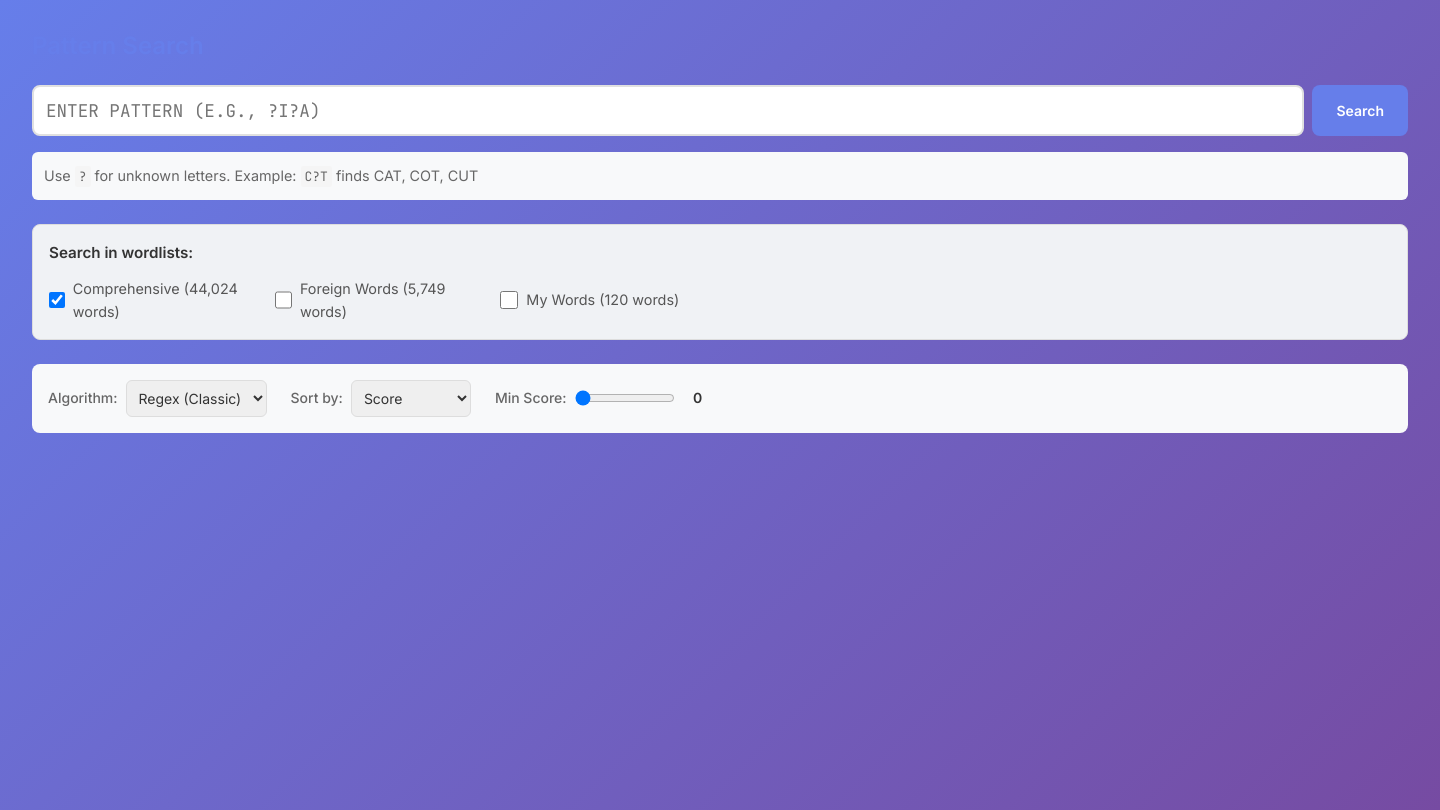
PatternMatcher SSE completion (real hook) › results scroll into view › does not scroll when the search returns no results
Type "C?T" into the field with placeholder "Enter pattern (e.g., ?I?A)".
click(668, 110); type("C?T")  # box [32,85,1304,136]
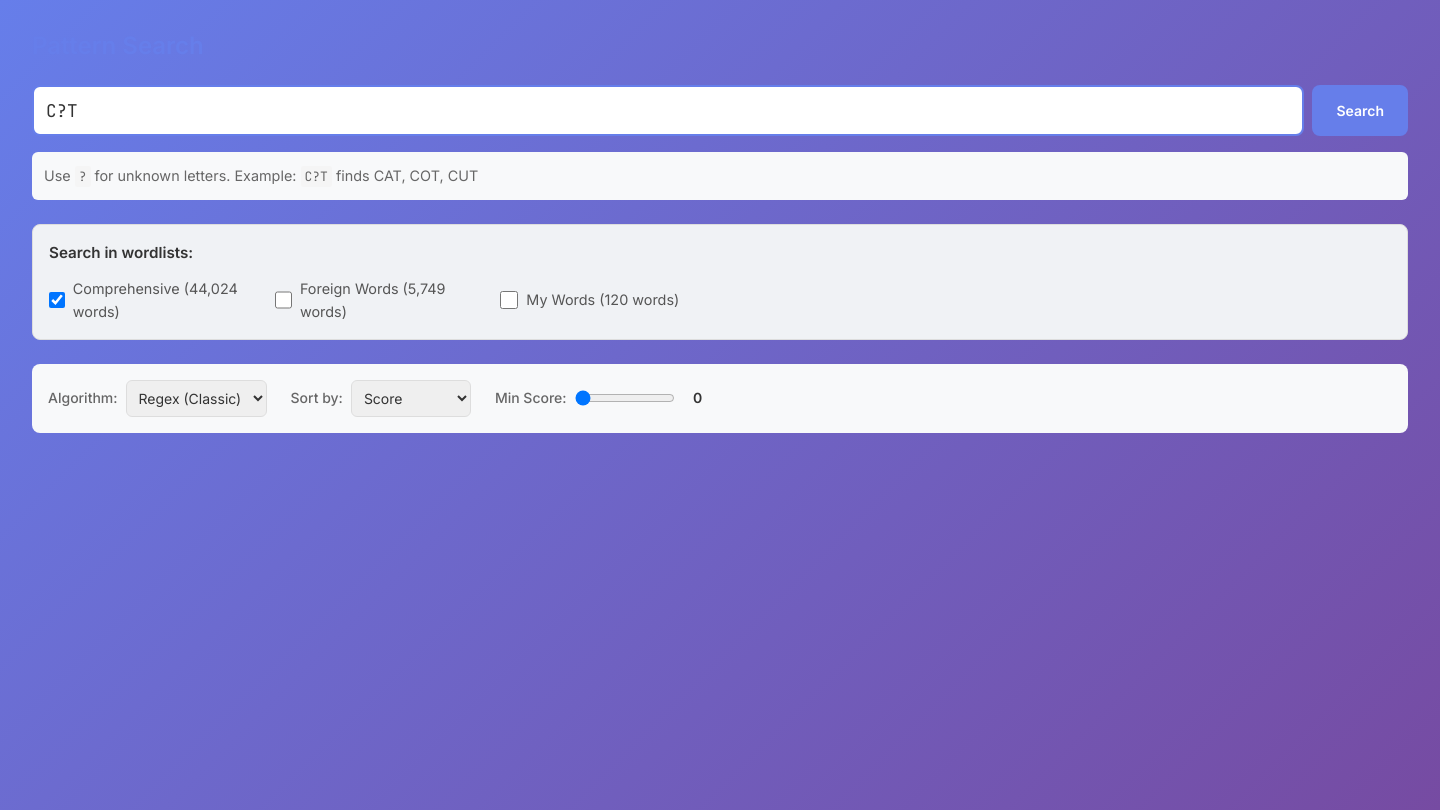
Click the button "Search".
click(1360, 110)  # box [1312,85,1408,136]
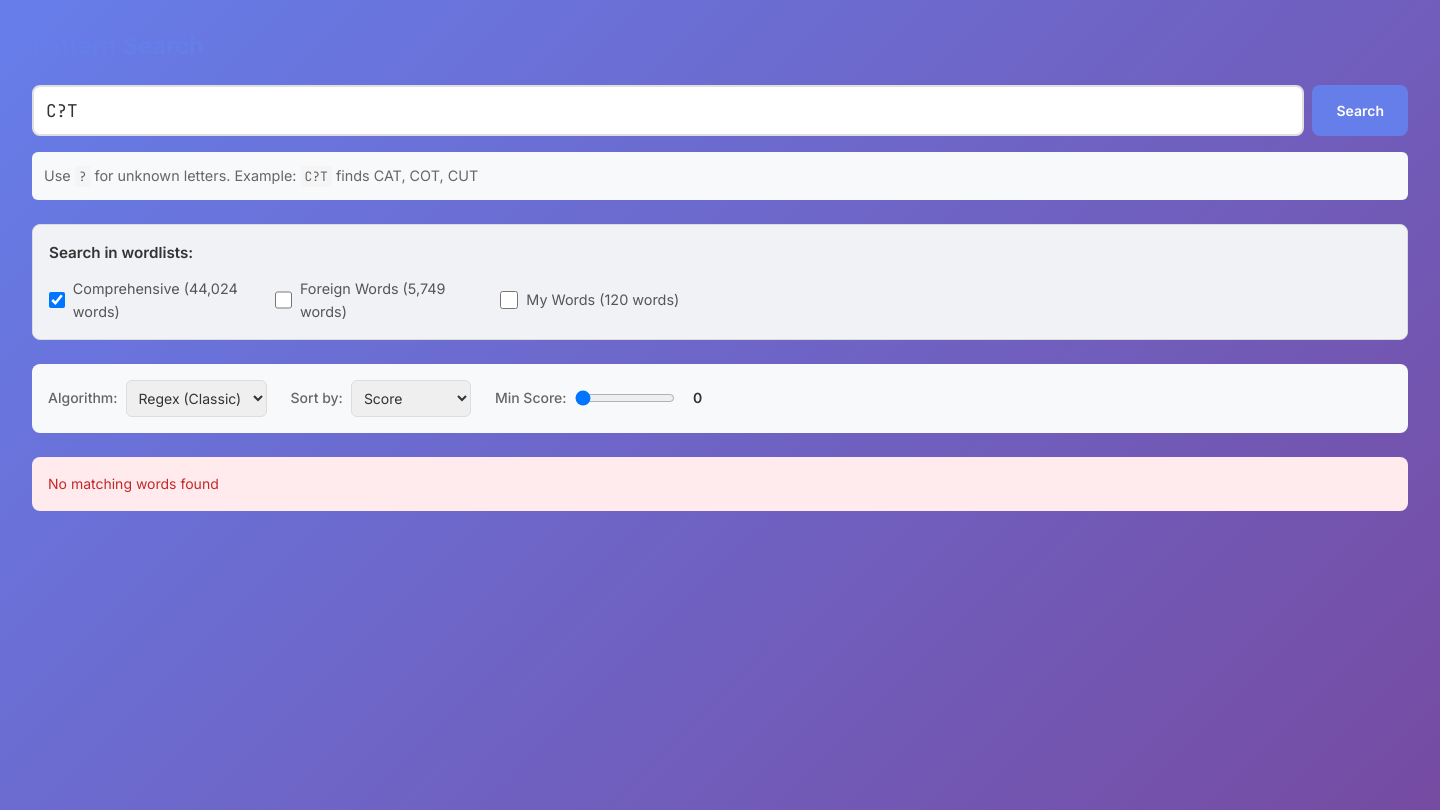
Check: the text "No matching words found" is shown, box [32,457,1408,511]
